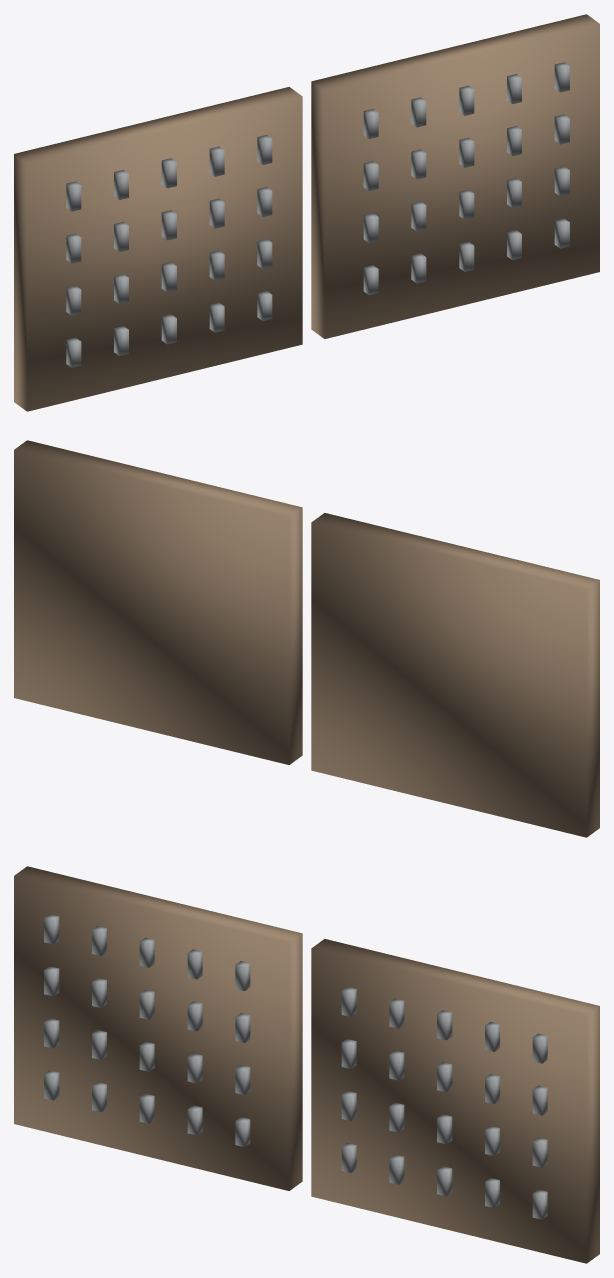
Rendered from key_cubby_rack__cluster.glb.
3 renders of one model, top to bottom at view 1: azimuth 30°, elevation 25°; view 2: azimuth 150°, elevation 25°; view 3: azimuth 330°, elevation 25°, orthographic.
Parts seen in each view (by area): view 1: world; view 2: world; view 3: world.
Boxes of the visible parts, x1,y1,x2,y2 form: world: [14, 14, 599, 411]; world: [14, 440, 599, 837]; world: [14, 866, 599, 1263].
Size of the model in its own units: 1.5 by 0.62 by 0.0925.
